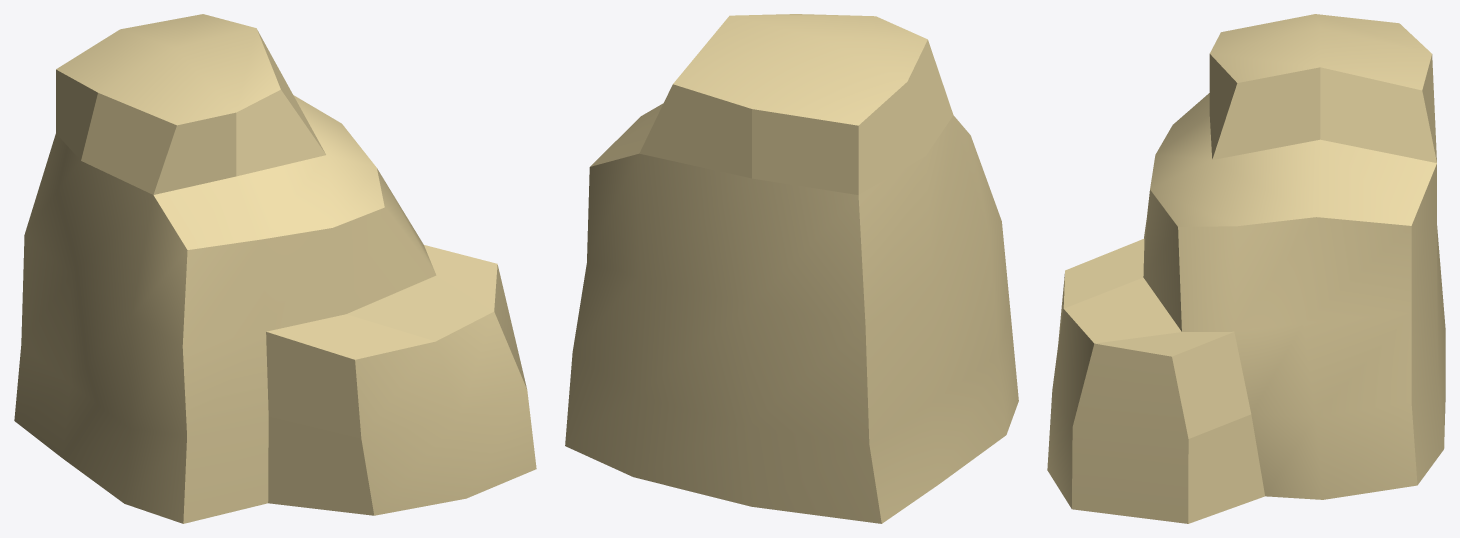
The model's file is atoll_rockLarge_01.fbx.
3 views of the same model, side by side, from view 1: azimuth 30°, elevation 25°; view 2: azimuth 150°, elevation 25°; view 3: azimuth 270°, elevation 25° (orthographic). The views are drawn at different scales.
Parts seen in each view (by area): view 1: ROCK_LARGE; view 2: ROCK_LARGE; view 3: ROCK_LARGE.
Boxes of the visible parts, x1=… form: ROCK_LARGE: x1=14, y1=14, x2=536, y2=523; ROCK_LARGE: x1=565, y1=14, x2=1018, y2=523; ROCK_LARGE: x1=1047, y1=14, x2=1445, y2=523.
Bounding box in the file's own units: 222 × 217 × 211.
